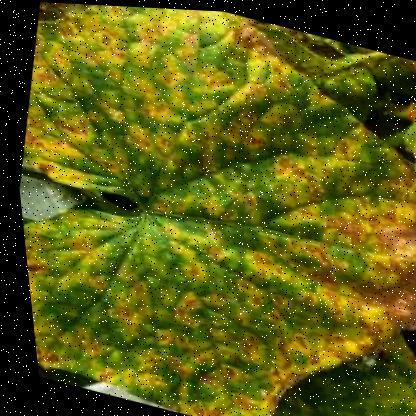Anthracnose: (166, 104, 415, 409), (12, 145, 258, 410), (7, 0, 290, 213)
